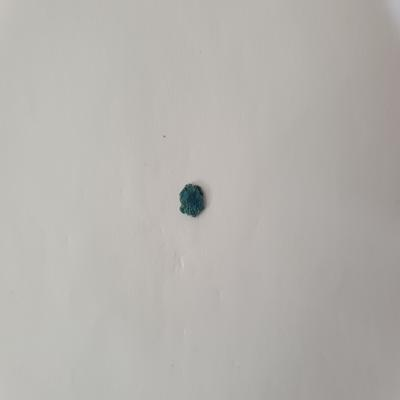plastic: (173, 178, 210, 220)
